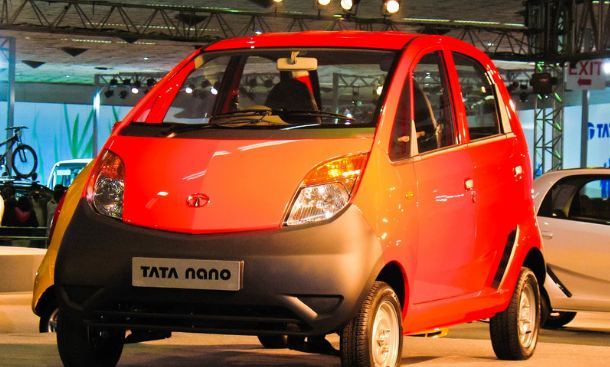Nano: (52, 25, 547, 367)
